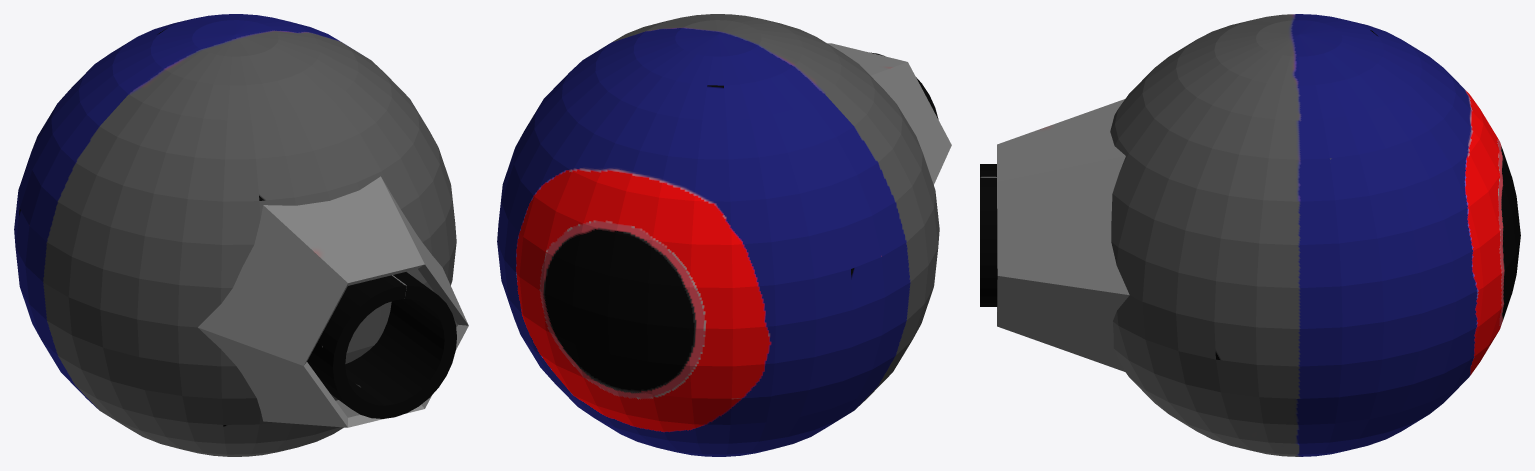
Rendered from bossMainBodyDead.obj.
3 views of the same model, side by side, from view 1: azimuth 30°, elevation 25°; view 2: azimuth 150°, elevation 25°; view 3: azimuth 270°, elevation 25° (orthographic).
Visible parts, largest first — view 1: 球, 立方体_立方体.001, 円柱_円柱.001; view 2: 球, 立方体_立方体.001; view 3: 球, 立方体_立方体.001, 円柱_円柱.001.
Part boxes in pixels (x1,y1,x2,y2): 球: (14,14,456,456); 立方体_立方体.001: (198,176,468,427); 円柱_円柱.001: (307,272,456,418); 球: (497,14,939,456); 立方体_立方体.001: (827,43,951,184); 球: (1110,14,1520,456); 立方体_立方体.001: (997,99,1129,372); 円柱_円柱.001: (980,164,997,306).
Bounding box in the file's own units: 2 × 2 × 2.44.
Materials: 3 (3 with a texture image).
